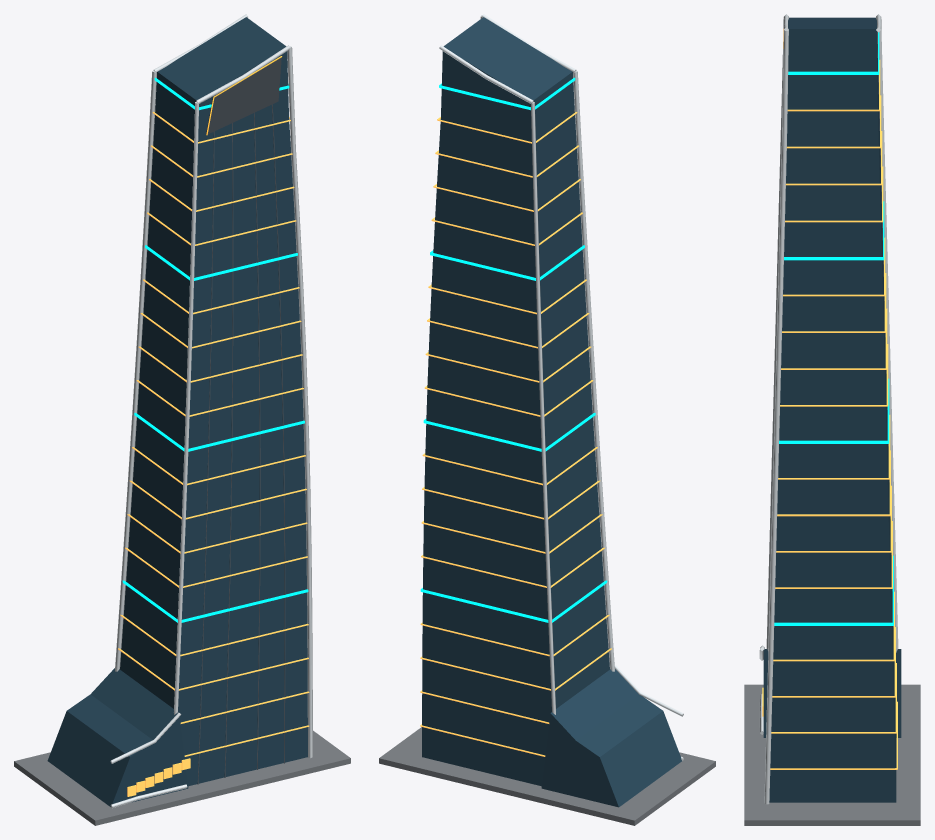
Rendered from Model_ Stage 08 .glb.
3 renders of one model, left to right at view 1: azimuth 30°, elevation 25°; view 2: azimuth 150°, elevation 25°; view 3: azimuth 270°, elevation 25°, orthographic. The views are drawn at different scales.
Parts seen in each view (by area): view 1: SailTowerGlassShell.004, SweepingPodiumGlass.005, SignatureWhiteTowerRibbon.004, SailFoundation.007, SailWarmFloorBands.004, FacadeMullions.004, CrownAperture, SailSkyLobbyBands.004, PodiumWhiteRibbon.005, PodiumWindows.005; view 2: SailTowerGlassShell.004, SweepingPodiumGlass.005, SignatureWhiteTowerRibbon.004, SailFoundation.007, SailWarmFloorBands.004, SailSkyLobbyBands.004; view 3: SailTowerGlassShell.004, SailFoundation.007, SignatureWhiteTowerRibbon.004, SailWarmFloorBands.004, SailSkyLobbyBands.004, SweepingPodiumGlass.005.
Boxes of the visible parts, bbox=[...] form: SailTowerGlassShell.004: bbox=[120, 17, 307, 786]; SweepingPodiumGlass.005: bbox=[47, 668, 188, 806]; SignatureWhiteTowerRibbon.004: bbox=[115, 14, 312, 758]; SailFoundation.007: bbox=[14, 730, 350, 825]; SailWarmFloorBands.004: bbox=[118, 111, 309, 756]; FacadeMullions.004: bbox=[197, 104, 285, 784]; CrownAperture: bbox=[206, 56, 281, 134]; SailSkyLobbyBands.004: bbox=[122, 77, 308, 622]; PodiumWhiteRibbon.005: bbox=[110, 712, 187, 808]; PodiumWindows.005: bbox=[127, 758, 190, 796]; SailTowerGlassShell.004: bbox=[422, 17, 609, 786]; SweepingPodiumGlass.005: bbox=[541, 669, 681, 807]; SignatureWhiteTowerRibbon.004: bbox=[439, 14, 614, 714]; SailFoundation.007: bbox=[379, 727, 715, 825]; SailWarmFloorBands.004: bbox=[420, 111, 611, 756]; SailSkyLobbyBands.004: bbox=[420, 77, 607, 622]; SailTowerGlassShell.004: bbox=[769, 17, 896, 802]; SailFoundation.007: bbox=[744, 684, 920, 825]; SignatureWhiteTowerRibbon.004: bbox=[764, 14, 898, 804]; SailWarmFloorBands.004: bbox=[770, 60, 897, 769]; SailSkyLobbyBands.004: bbox=[774, 32, 893, 625]; SweepingPodiumGlass.005: bbox=[763, 649, 901, 737].
Bounding box in the file's own units: 20 × 53.41 × 11.
